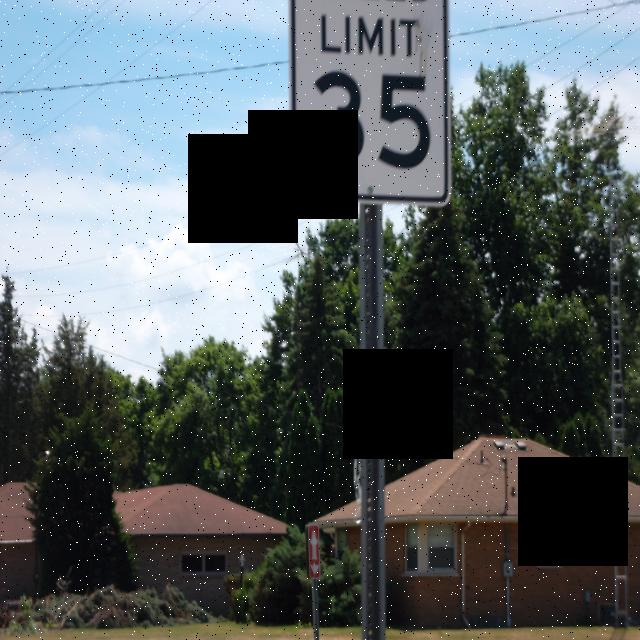regulatory: (289, 0, 455, 207)
